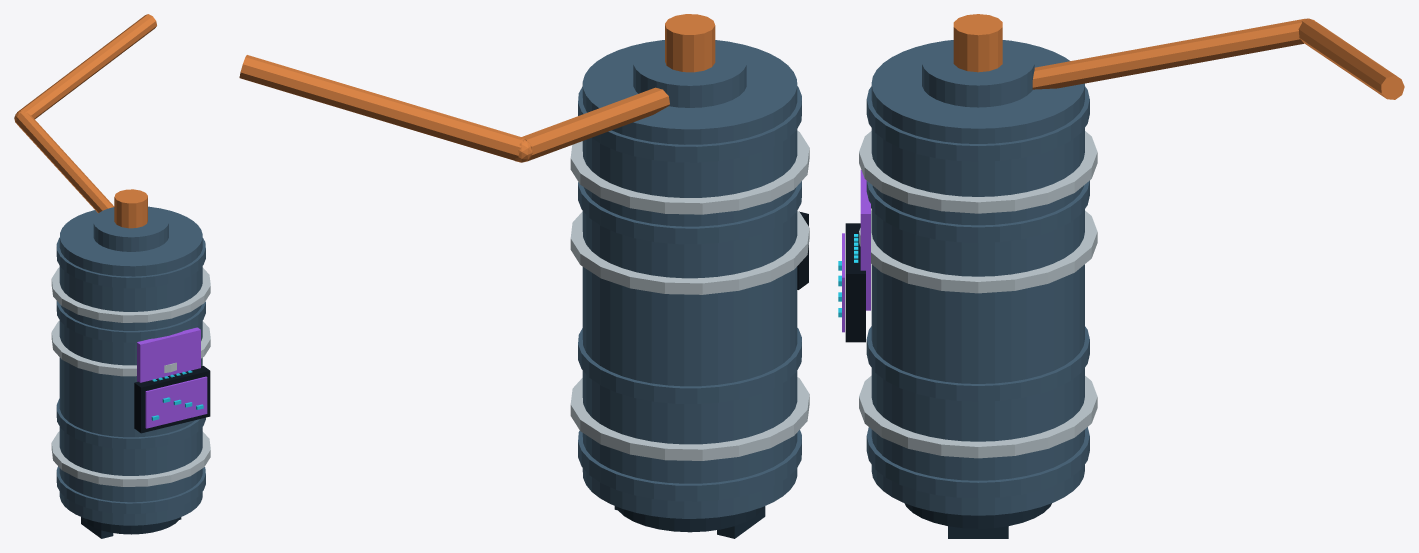
Rendered from 03_L75_VirtualDopantSourceCartridge.fbx.
The picture shows the model from 3 angles, left to right: view 1: azimuth 30°, elevation 25°; view 2: azimuth 150°, elevation 25°; view 3: azimuth 270°, elevation 25°; orthographic projection. The views are drawn at different scales.
Parts seen in each view (by area): view 1: VirtualDopantSourceCartridge_Part_0000, VirtualDopantSourceCartridge, VirtualDopantSourceCartridge_Part_0010, VirtualDopantSourceCartridge_Part_0011, VirtualDopantSourceCartridge_Part_0025, VirtualDopantSourceCartridge_Part_0023, VirtualDopantSourceCartridge_Part_0027, VirtualDopantSourceCartridge_Part_0008, VirtualDopantSourceCartridge_Part_0002, VirtualDopantSourceCartridge_Part_0004, VirtualDopantSourceCartridge_Part_0006, VirtualDopantSourceCartridge_Part_0026 (+3 smaller); view 2: VirtualDopantSourceCartridge_Part_0000, VirtualDopantSourceCartridge, VirtualDopantSourceCartridge_Part_0024, VirtualDopantSourceCartridge_Part_0023, VirtualDopantSourceCartridge_Part_0025, VirtualDopantSourceCartridge_Part_0011, VirtualDopantSourceCartridge_Part_0004, VirtualDopantSourceCartridge_Part_0002, VirtualDopantSourceCartridge_Part_0006, VirtualDopantSourceCartridge_Part_0008, VirtualDopantSourceCartridge_Part_0013, VirtualDopantSourceCartridge_Part_0012; view 3: VirtualDopantSourceCartridge_Part_0000, VirtualDopantSourceCartridge, VirtualDopantSourceCartridge_Part_0011, VirtualDopantSourceCartridge_Part_0025, VirtualDopantSourceCartridge_Part_0023, VirtualDopantSourceCartridge_Part_0024, VirtualDopantSourceCartridge_Part_0004, VirtualDopantSourceCartridge_Part_0008, VirtualDopantSourceCartridge_Part_0002, VirtualDopantSourceCartridge_Part_0006, VirtualDopantSourceCartridge_Part_0013, VirtualDopantSourceCartridge_Part_0026 (+3 smaller).
Part boxes in pixels (<box>): VirtualDopantSourceCartridge_Part_0000: <box>59,206,202,525</box>; VirtualDopantSourceCartridge: <box>14,14,156,213</box>; VirtualDopantSourceCartridge_Part_0010: <box>137,327,200,382</box>; VirtualDopantSourceCartridge_Part_0011: <box>93,207,168,251</box>; VirtualDopantSourceCartridge_Part_0025: <box>51,267,210,322</box>; VirtualDopantSourceCartridge_Part_0023: <box>51,431,210,486</box>; VirtualDopantSourceCartridge_Part_0027: <box>145,376,207,428</box>; VirtualDopantSourceCartridge_Part_0008: <box>56,238,205,288</box>; VirtualDopantSourceCartridge_Part_0002: <box>56,466,205,513</box>; VirtualDopantSourceCartridge_Part_0004: <box>56,398,205,449</box>; VirtualDopantSourceCartridge_Part_0006: <box>56,301,205,342</box>; VirtualDopantSourceCartridge_Part_0026: <box>134,366,210,433</box>; VirtualDopantSourceCartridge_Part_0000: <box>582,40,797,518</box>; VirtualDopantSourceCartridge: <box>239,55,669,162</box>; VirtualDopantSourceCartridge_Part_0024: <box>570,211,809,294</box>; VirtualDopantSourceCartridge_Part_0023: <box>570,377,809,460</box>; VirtualDopantSourceCartridge_Part_0025: <box>570,130,809,214</box>; VirtualDopantSourceCartridge_Part_0011: <box>633,40,746,107</box>; VirtualDopantSourceCartridge_Part_0004: <box>578,328,801,403</box>; VirtualDopantSourceCartridge_Part_0002: <box>578,430,801,501</box>; VirtualDopantSourceCartridge_Part_0006: <box>578,181,801,244</box>; VirtualDopantSourceCartridge_Part_0008: <box>578,86,801,162</box>; VirtualDopantSourceCartridge_Part_0013: <box>665,14,715,72</box>; VirtualDopantSourceCartridge_Part_0012: <box>616,506,764,532</box>; VirtualDopantSourceCartridge_Part_0000: <box>871,40,1084,515</box>; VirtualDopantSourceCartridge: <box>1032,18,1404,99</box>; VirtualDopantSourceCartridge_Part_0011: <box>922,40,1034,107</box>; VirtualDopantSourceCartridge_Part_0025: <box>859,131,1097,213</box>; VirtualDopantSourceCartridge_Part_0023: <box>859,375,1097,458</box>; VirtualDopantSourceCartridge_Part_0024: <box>859,210,1097,293</box>; VirtualDopantSourceCartridge_Part_0004: <box>866,326,1089,401</box>; VirtualDopantSourceCartridge_Part_0008: <box>866,86,1089,161</box>; VirtualDopantSourceCartridge_Part_0002: <box>866,427,1089,498</box>; VirtualDopantSourceCartridge_Part_0006: <box>866,180,1089,242</box>; VirtualDopantSourceCartridge_Part_0013: <box>953,14,1002,72</box>; VirtualDopantSourceCartridge_Part_0026: <box>845,223,865,342</box>.
Bounding box in the file's own units: 126 × 193 × 180.
